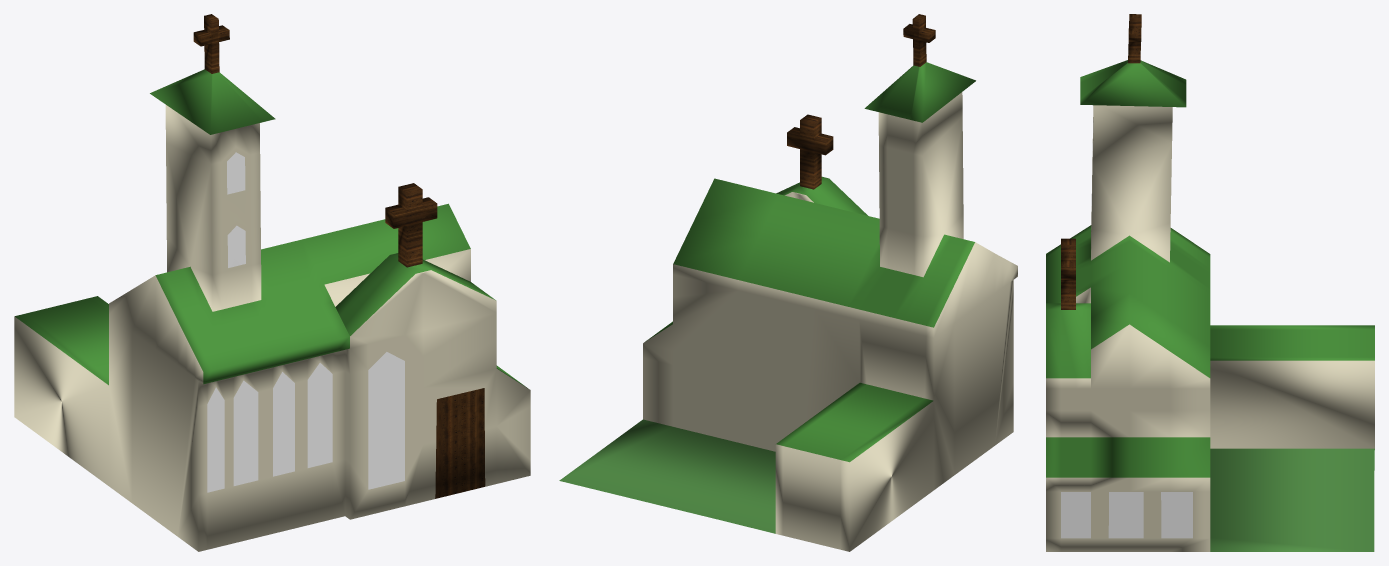
File: iglesia.glb
The picture shows the model from 3 angles, left to right: view 1: azimuth 30°, elevation 25°; view 2: azimuth 150°, elevation 25°; view 3: azimuth 270°, elevation 25°; orthographic projection. The views are drawn at different scales.
Visible parts, largest first — view 1: iglesia; view 2: iglesia; view 3: iglesia.
Part boxes in pixels (left/top/right/bottom): iglesia: left=14, top=14, right=530, bottom=551; iglesia: left=559, top=14, right=1017, bottom=551; iglesia: left=1046, top=14, right=1374, bottom=551.
Size of the model in its own units: 8 by 11.36 by 8.01.
5 materials, 1 textured.
